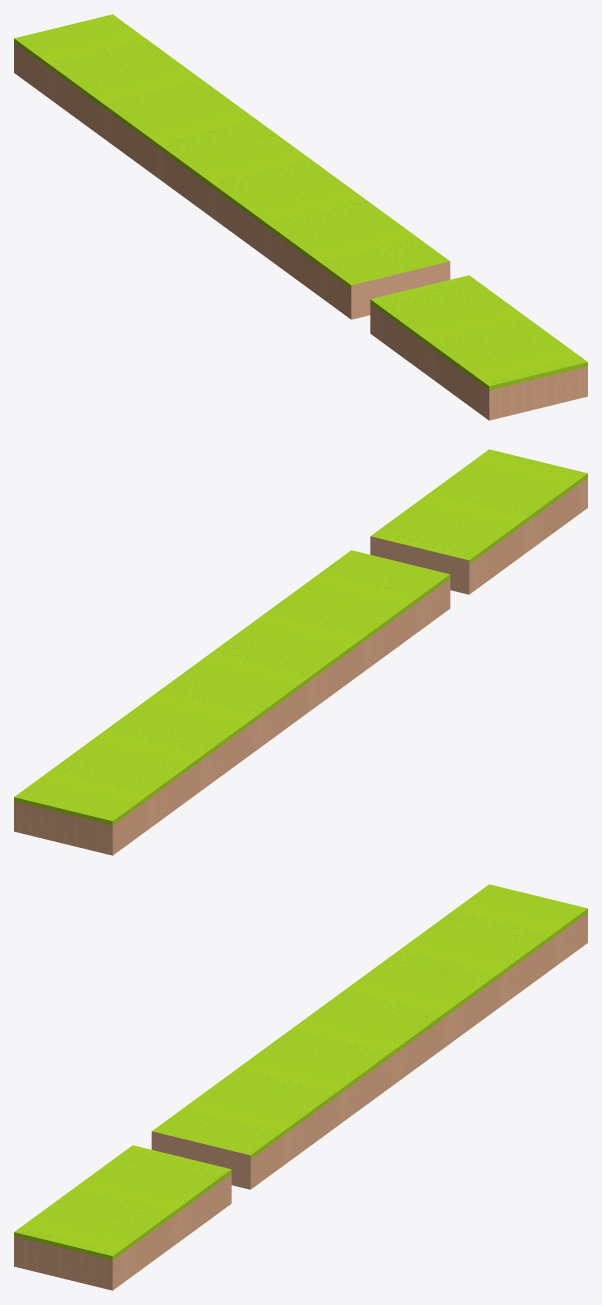
File: StageMap3.gltf
3 views of the same model, one above another, from view 1: azimuth 30°, elevation 25°; view 2: azimuth 150°, elevation 25°; view 3: azimuth 330°, elevation 25° (orthographic).
Parts seen in each view (by area): view 1: Cube; view 2: Cube; view 3: Cube.
Boxes of the visible parts, x1,y1,x2,y2 form: Cube: (14,14,587,420); Cube: (14,449,587,855); Cube: (14,884,587,1290).
Bounding box in the file's own units: 12 × 4 × 100.
2 materials, 2 textured.
